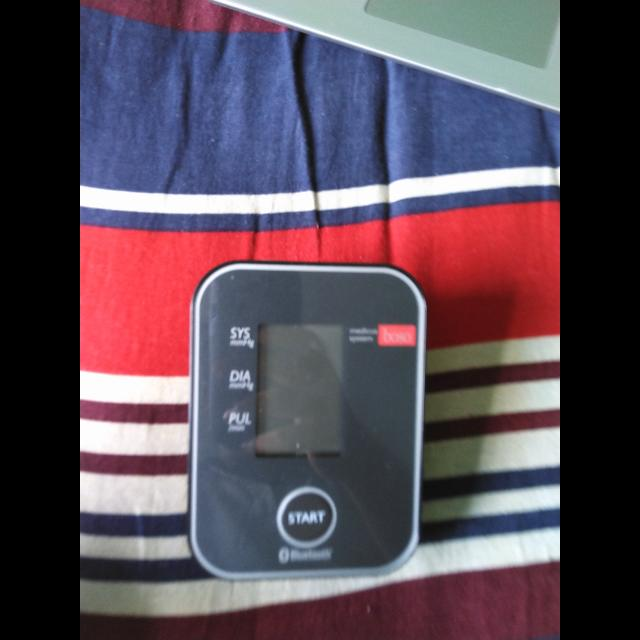Blood-Pressure-Monitor: (186, 264, 437, 580)
